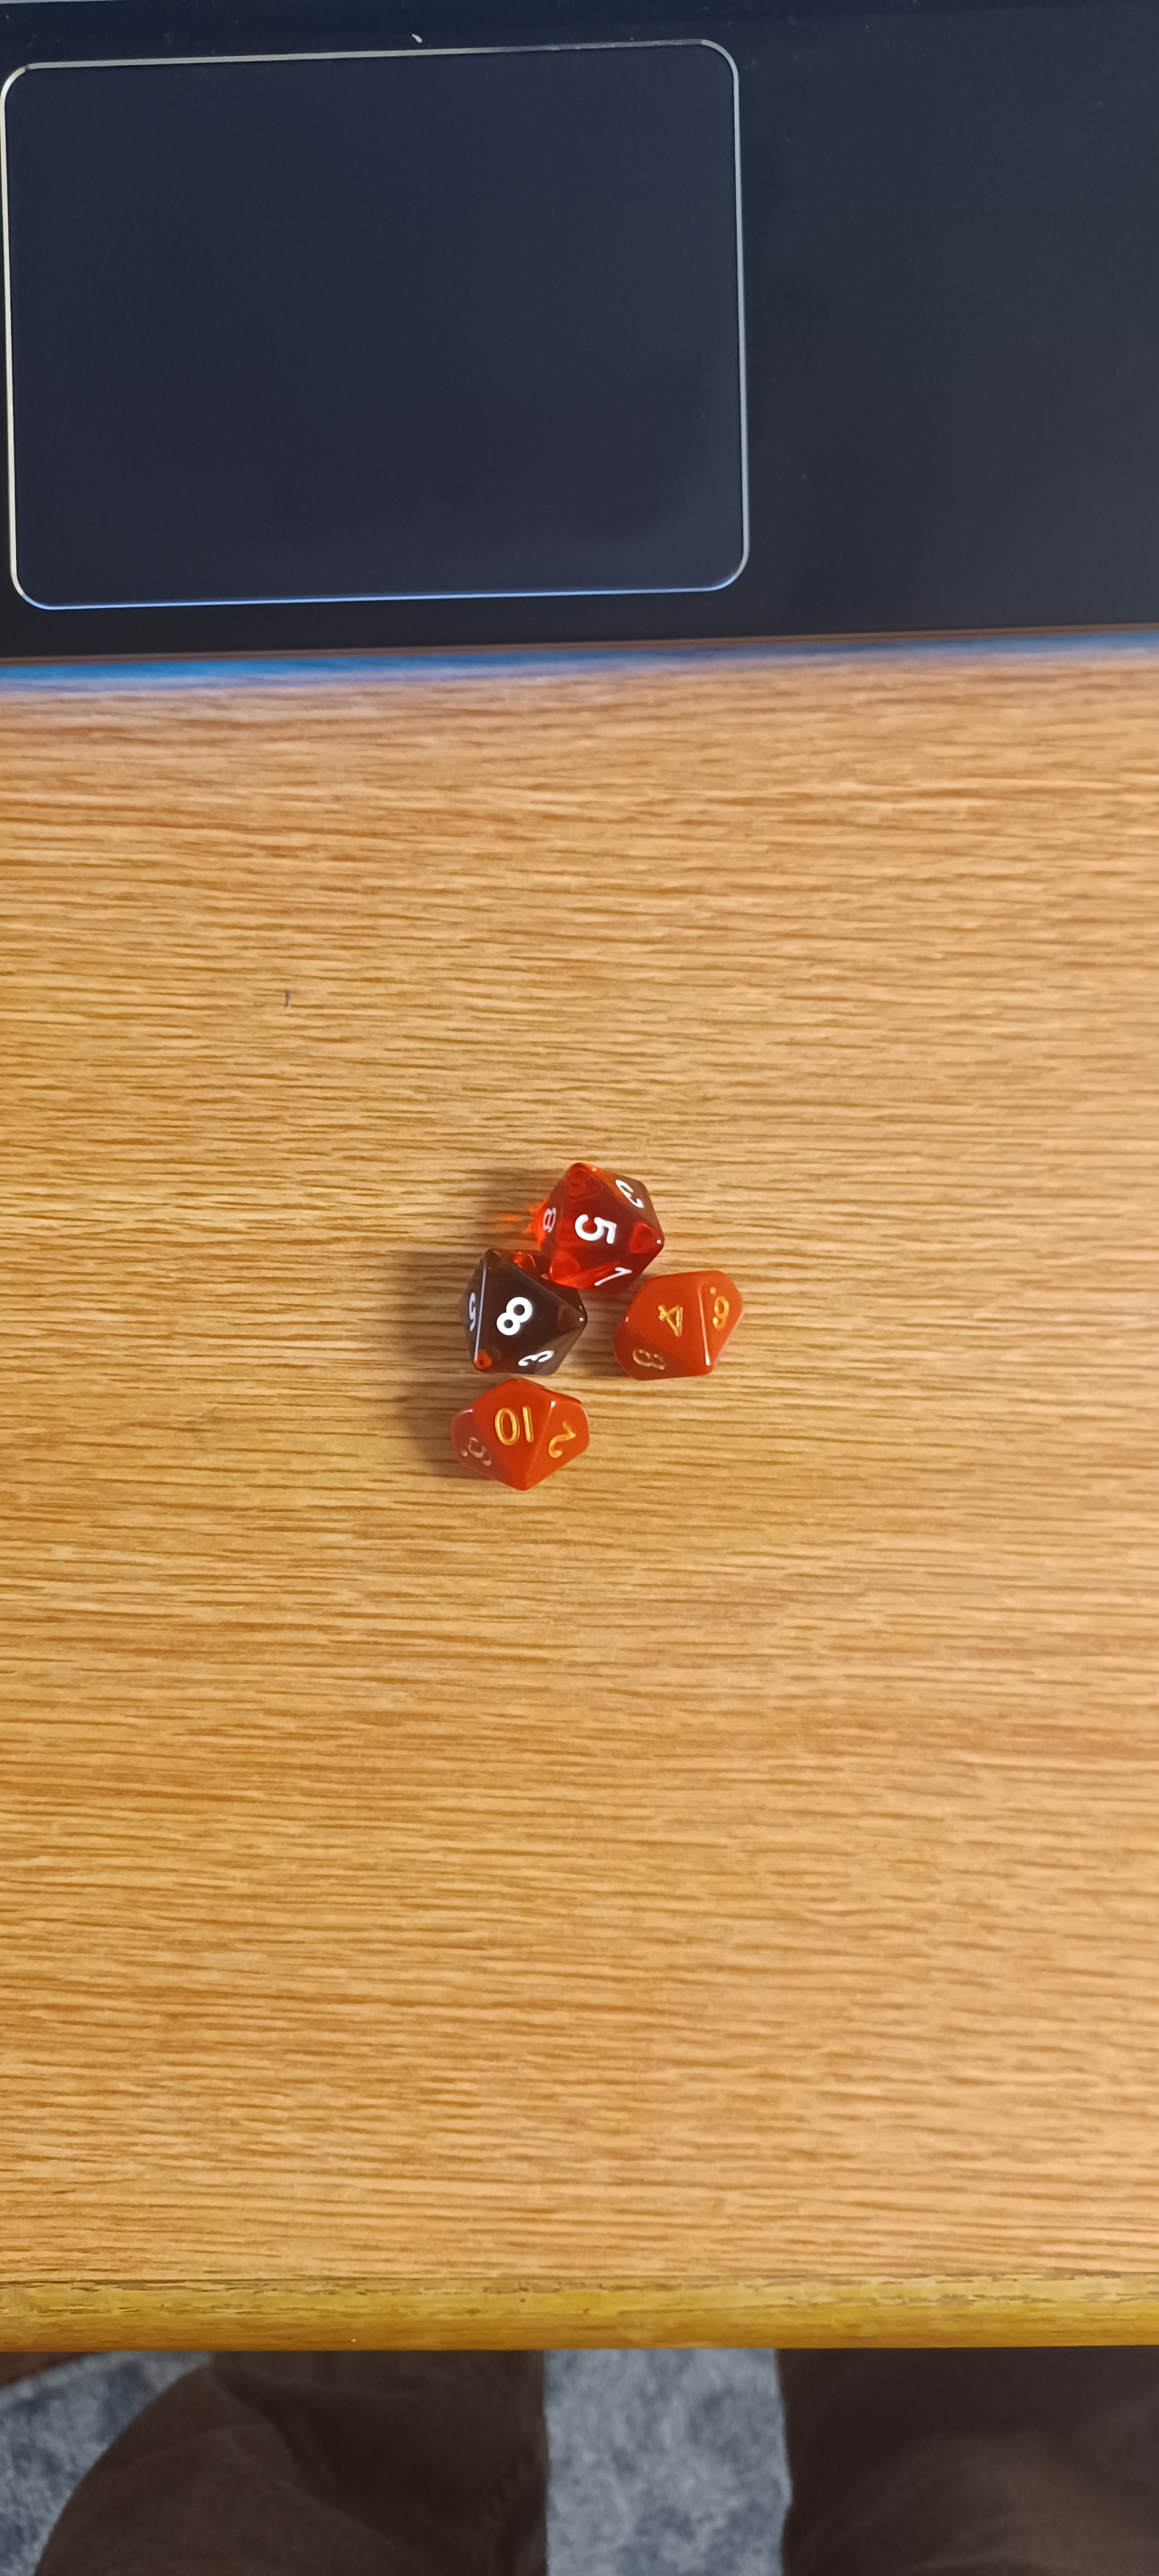eight: (440, 1239, 594, 1383)
five: (520, 1152, 667, 1299)
four: (602, 1267, 747, 1391)
ten: (445, 1370, 598, 1500)
